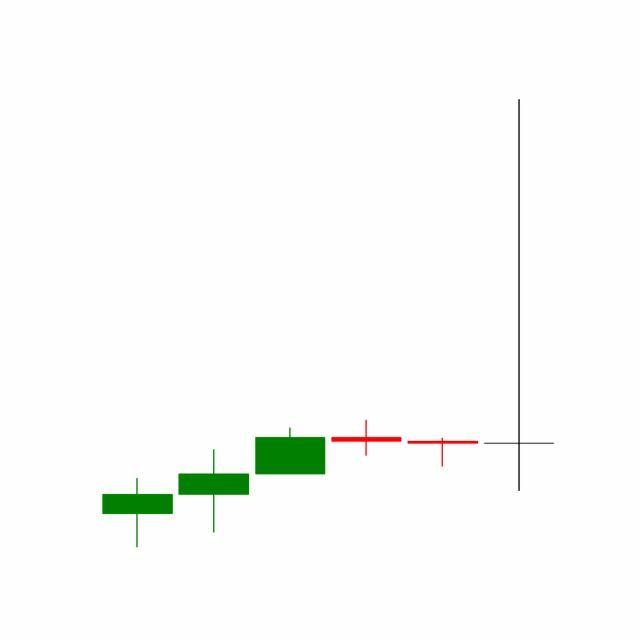Spinning Top: (404, 438, 482, 468)
